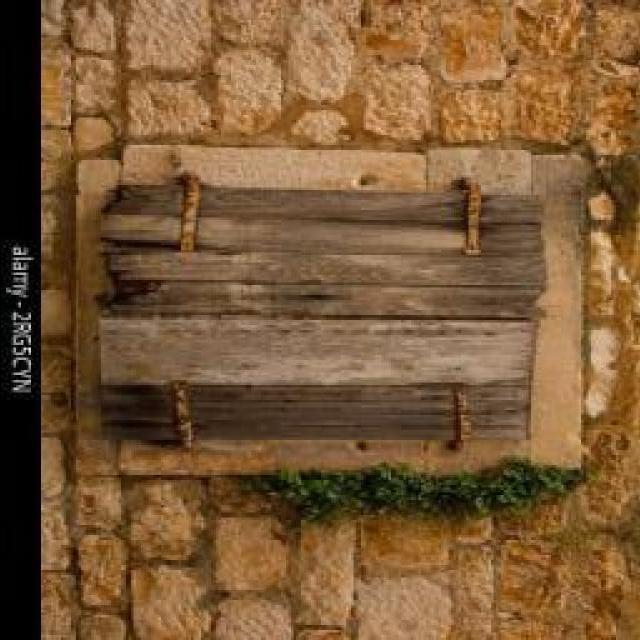corrosion: (86, 1, 388, 141)
crack: (54, 22, 131, 640), (561, 14, 636, 639), (527, 157, 585, 468), (97, 124, 487, 157), (56, 121, 88, 462), (579, 144, 605, 420), (121, 0, 214, 77), (122, 75, 218, 142), (355, 2, 433, 69), (70, 54, 123, 119), (68, 0, 121, 61), (592, 6, 640, 63), (42, 43, 73, 130), (112, 0, 128, 154), (42, 439, 71, 521), (41, 579, 81, 638), (72, 115, 121, 158), (578, 0, 602, 77), (496, 2, 519, 60), (354, 518, 364, 571)
dampness: (150, 506, 527, 639), (331, 0, 617, 143), (112, 478, 214, 637), (192, 510, 297, 640)
vegetation: (238, 454, 585, 524), (253, 466, 363, 523), (583, 150, 639, 255), (214, 483, 287, 521)
